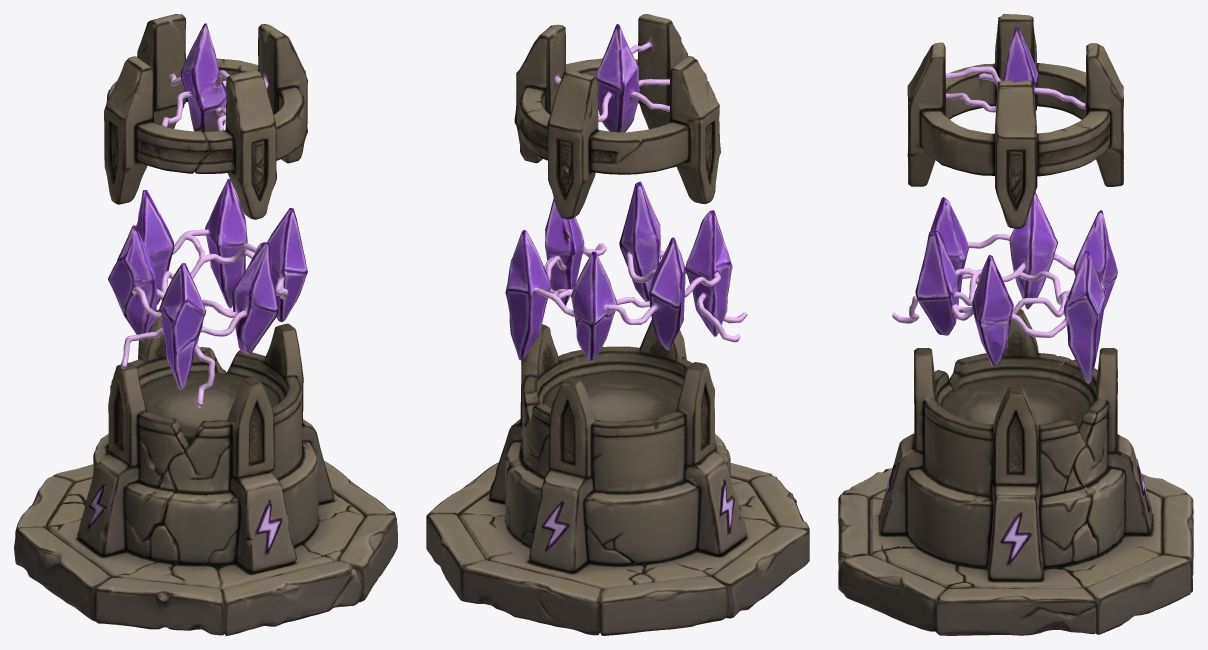
The model's file is crystal_purple.glb.
3 views of the same model, side by side, from view 1: azimuth 30°, elevation 25°; view 2: azimuth 150°, elevation 25°; view 3: azimuth 270°, elevation 25° (orthographic).
Visible parts, largest first — view 1: tripo_node_8249f970-ce73-4339-967f-8300ec35a36a; view 2: tripo_node_8249f970-ce73-4339-967f-8300ec35a36a; view 3: tripo_node_8249f970-ce73-4339-967f-8300ec35a36a.
Boxes of the visible parts, bbox=[...] form: tripo_node_8249f970-ce73-4339-967f-8300ec35a36a: bbox=[14, 14, 397, 635]; tripo_node_8249f970-ce73-4339-967f-8300ec35a36a: bbox=[426, 14, 809, 635]; tripo_node_8249f970-ce73-4339-967f-8300ec35a36a: bbox=[838, 14, 1193, 635].
Bounding box in the file's own units: 0.6 × 1 × 0.5997.
Materials: 1 (1 with a texture image).
